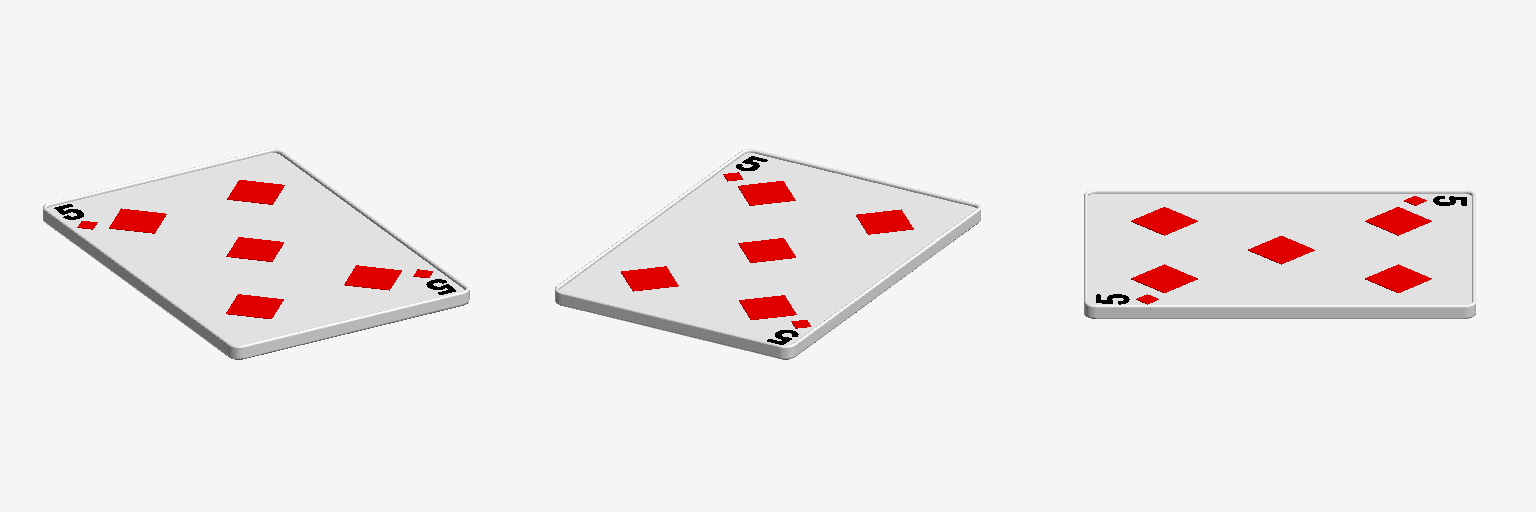
File: diamonds_5.obj
The picture shows the model from 3 angles: view 1: azimuth 30°, elevation 25°; view 2: azimuth 150°, elevation 25°; view 3: azimuth 270°, elevation 25°; orthographic projection.
Parts seen in each view (by area): view 1: rect4266.017, rect4266.071, path4884-1-4.004, path4884-1-4-9.002, path4884-1.004, path4884-1-4-1-4.001, path4884-1-40.002, rect4266.110; view 2: rect4266.017, rect4266.071, path4884-1-4.004, path4884-1.004, path4884-1-40.002, path4884-1-4-9.002, path4884-1-4-1-4.001; view 3: rect4266.017, rect4266.071, path4884-1.004, path4884-1-4.004, path4884-1-40.002, path4884-1-4-1-4.001, path4884-1-4-9.002.
Boxes of the visible parts, x1,y1,x2,y2 form: rect4266.017: [47, 153, 464, 344]; rect4266.071: [43, 149, 469, 358]; path4884-1-4.004: [226, 294, 283, 318]; path4884-1-4-9.002: [344, 265, 401, 290]; path4884-1.004: [109, 208, 166, 233]; path4884-1-4-1-4.001: [226, 237, 283, 261]; path4884-1-40.002: [227, 180, 284, 204]; rect4266.110: [46, 223, 468, 359]; rect4266.017: [559, 153, 976, 344]; rect4266.071: [555, 149, 980, 358]; path4884-1-4.004: [856, 209, 913, 234]; path4884-1.004: [739, 295, 796, 319]; path4884-1-40.002: [621, 266, 678, 291]; path4884-1-4-9.002: [738, 181, 795, 205]; path4884-1-4-1-4.001: [738, 238, 795, 262]; rect4266.017: [1088, 194, 1471, 304]; rect4266.071: [1084, 190, 1475, 318]; path4884-1.004: [1365, 207, 1431, 235]; path4884-1-4.004: [1131, 207, 1197, 235]; path4884-1-40.002: [1365, 264, 1431, 292]; path4884-1-4-1-4.001: [1248, 236, 1314, 264]; path4884-1-4-9.002: [1131, 264, 1197, 292].
Size of the model in its own units: 2.88 by 0.1966 by 4.08.